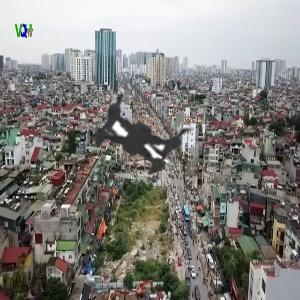drone: (8, 11, 281, 284)
